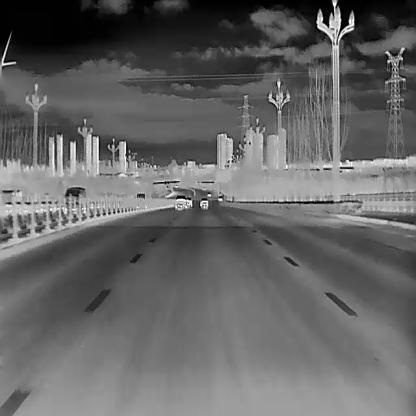car: (65, 185, 86, 207), (174, 194, 187, 210), (199, 197, 207, 208), (185, 196, 191, 206), (216, 193, 223, 201), (206, 190, 211, 196)
